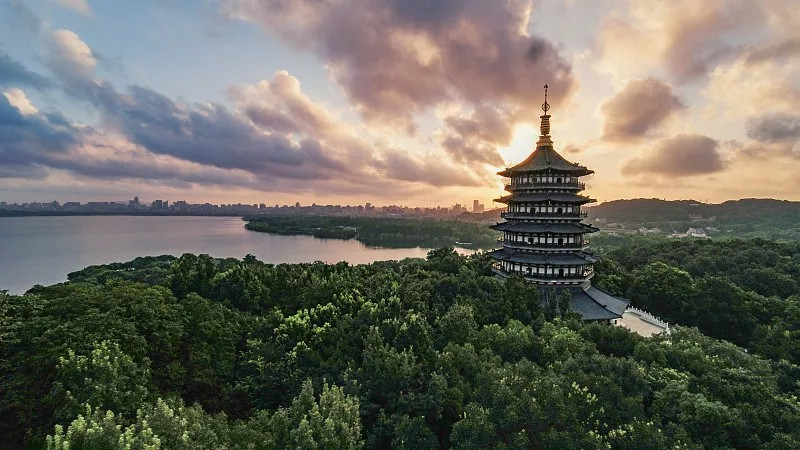Leifeng: (478, 82, 633, 331)
